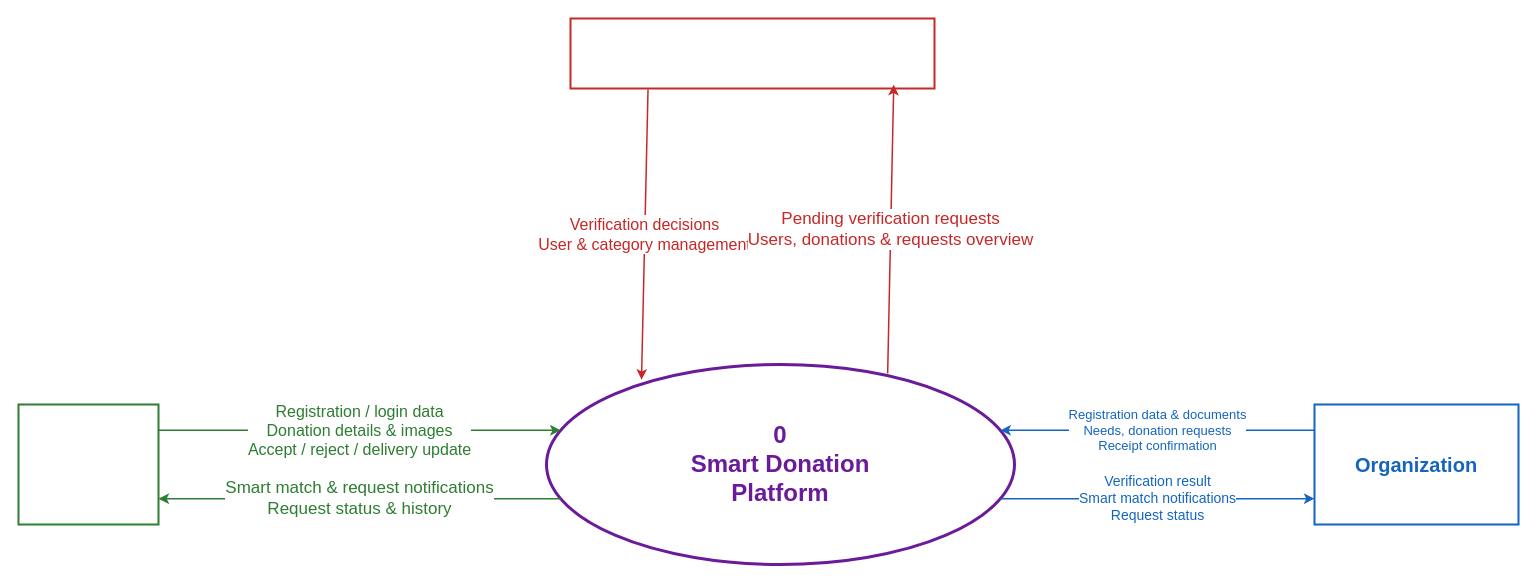
This 1536x583 diagram has some shape labels left out. The centre of each missing label's shape, as x and y in pixels:
Admin: [752,53]
Donor: [88,464]
